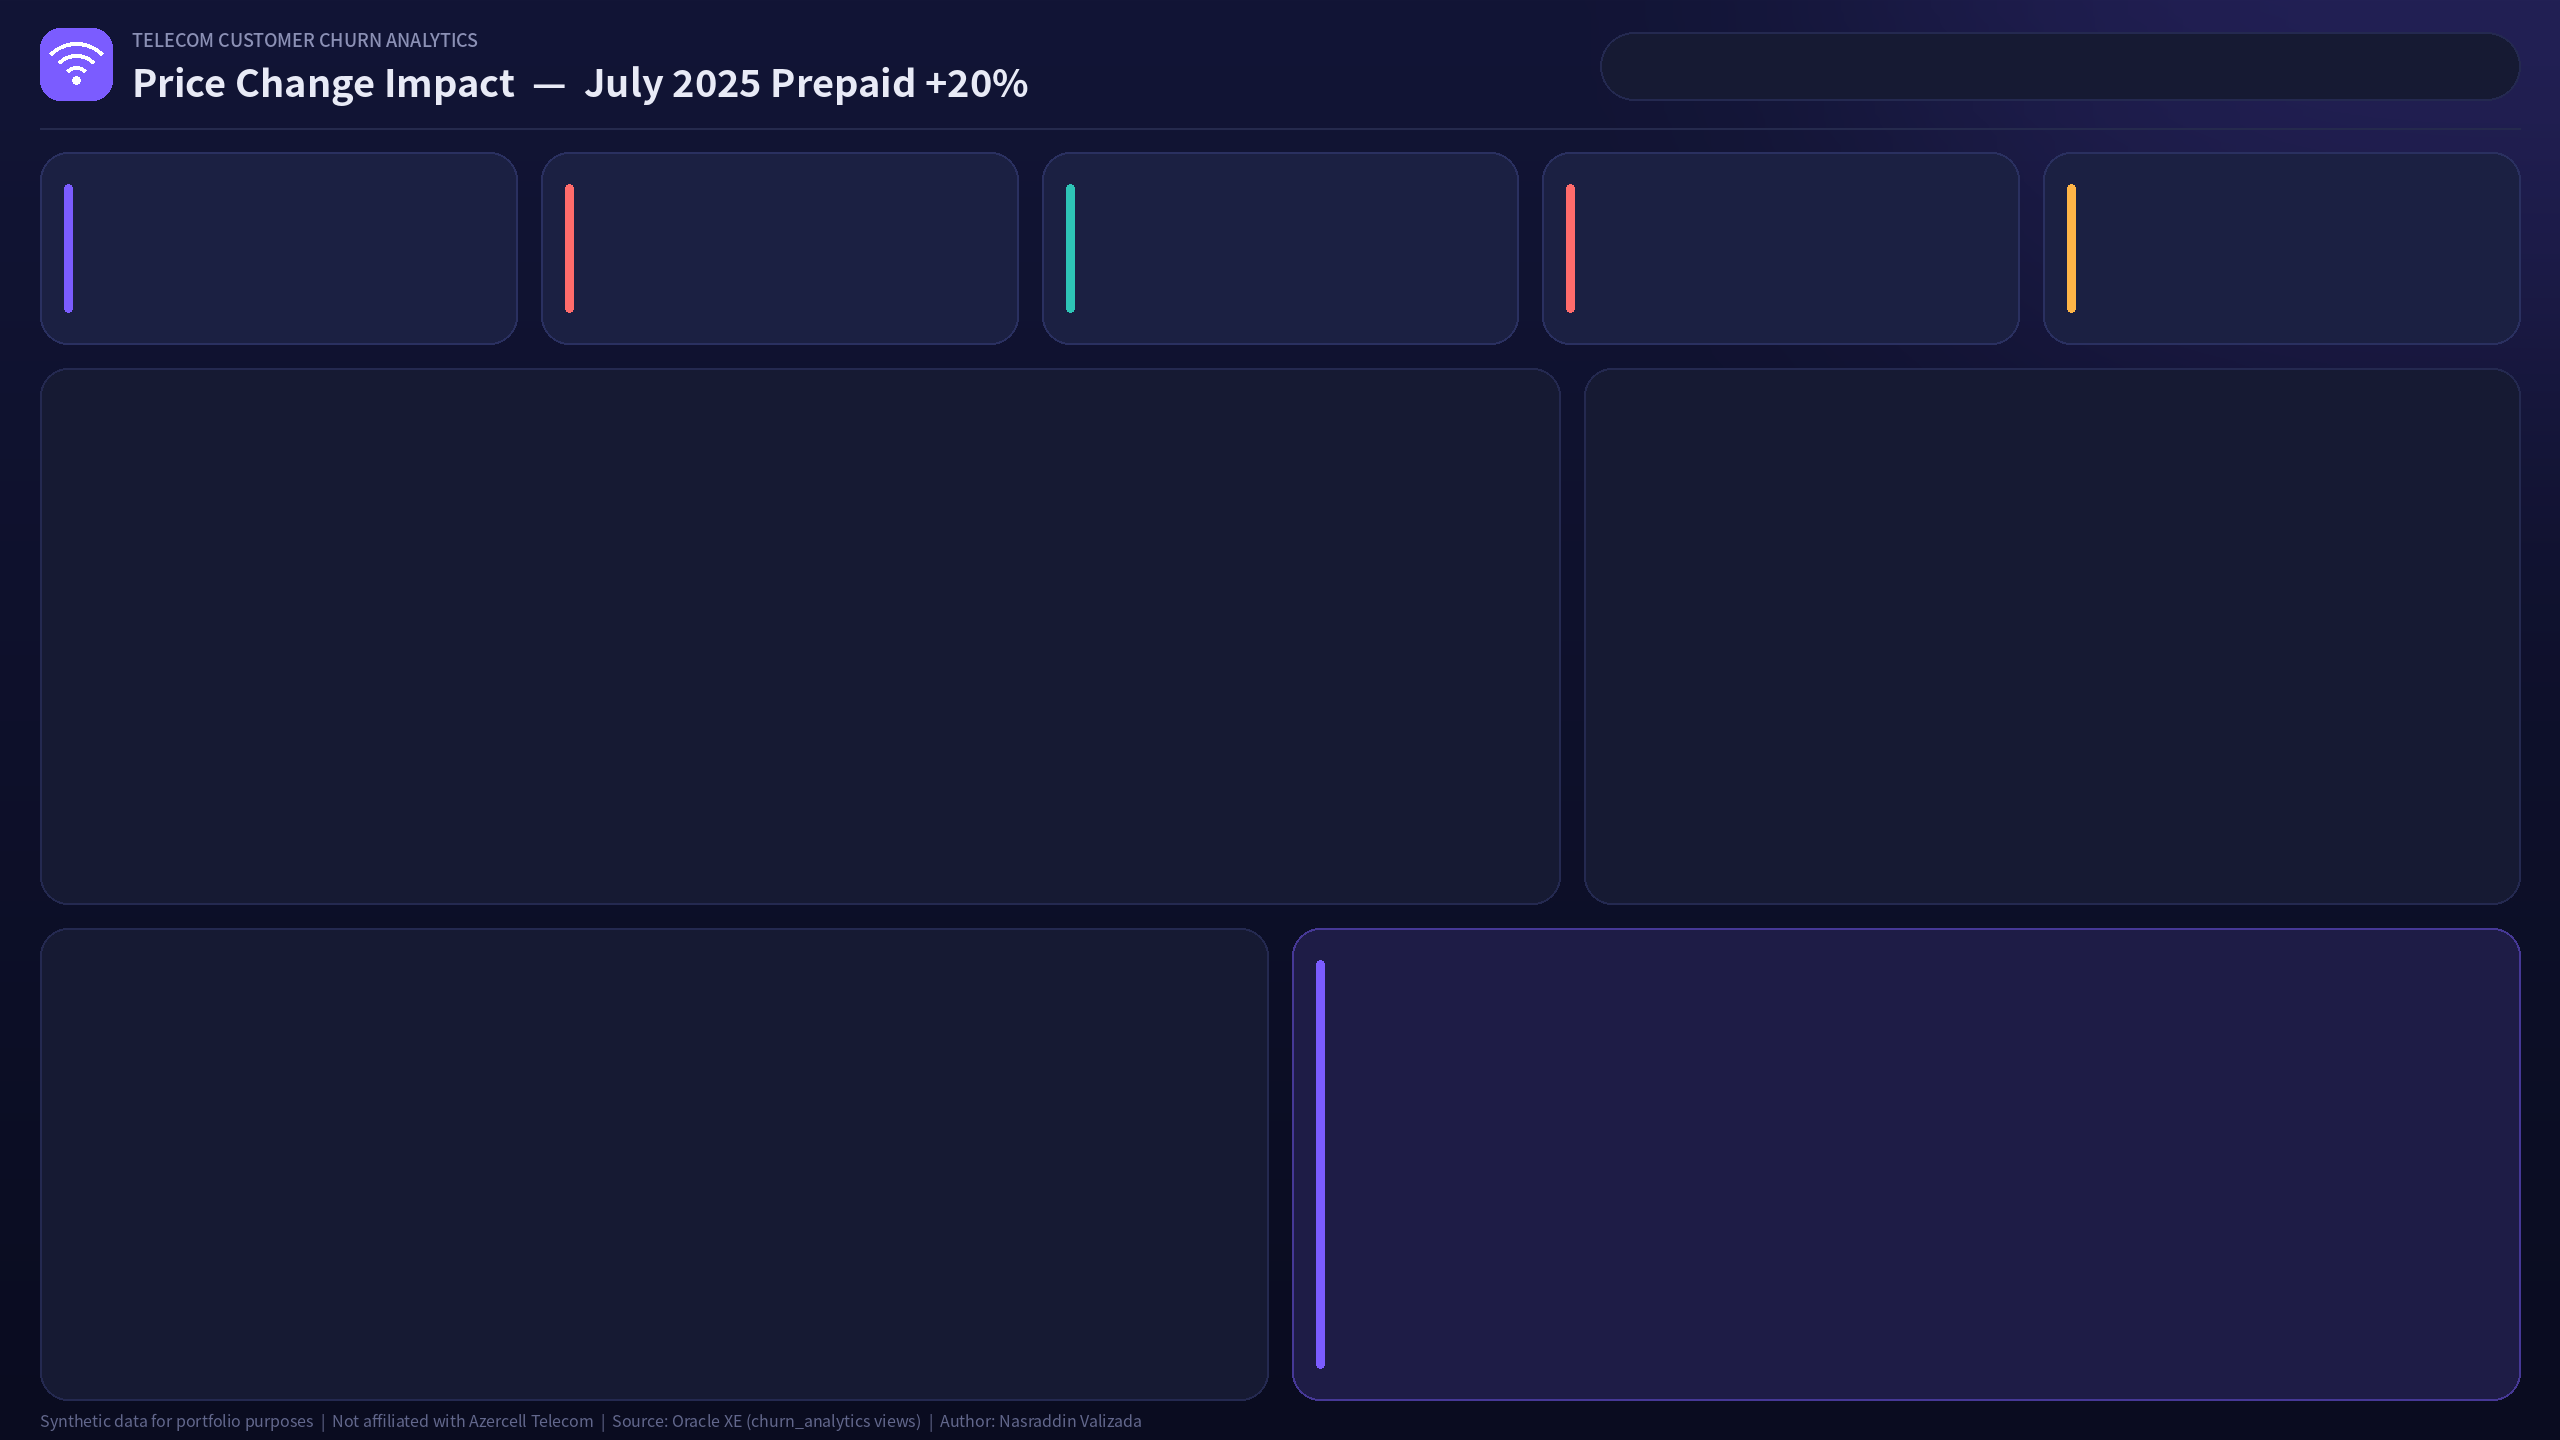

This screenshot's page, from the dashboard's own definition file:
{"tool":"powerbi","page":{"name":"Price Change Impact","canvas":[1280,720],"ordinal":1},"visuals":[{"type":"pageNavigator","box":[805.5,17.8,448.7,32.9],"z":0},{"type":"advanceCardE03760C5AB684758B56AA29F9E6C257B","fields":{"mainMeasure":["_Measures.ARPU Shift"]},"box":[28.5,77,242.3,92.7],"z":1000},{"type":"advanceCardE03760C5AB684758B56AA29F9E6C257B","fields":{"mainMeasure":["_Measures.Excess Churn"]},"box":[287.9,77,200.3,93.3],"z":2000},{"type":"advanceCardE03760C5AB684758B56AA29F9E6C257B","fields":{"mainMeasure":["_Measures.Price Gain"]},"box":[551.6,78.4,200.3,93.3],"z":3000},{"type":"advanceCardE03760C5AB684758B56AA29F9E6C257B","fields":{"mainMeasure":["_Measures.Lost Revenue"]},"box":[792.5,78.4,218.1,92.7],"z":4000},{"type":"advanceCardE03760C5AB684758B56AA29F9E6C257B","fields":{"mainMeasure":["_Measures.Net Impact"]},"box":[1043.4,78.4,200.3,93.3],"z":5000},{"type":"SimpleWaterfall","title":"Extra churn erased most of the price gain; net impact is small but positive","fields":{"category":["Impact Bridge.Step"],"measure":["_Measures.Bridge Value"]},"box":[28,192,744,252],"z":6000},{"type":"clusteredBarChart","title":"Price drove 39% of Q3 2025 prepaid churn","fields":{"Category":["FactCustomer.CHURN_REASON"],"Y":["_Measures.Share of Churners"]},"box":[800,192,452,252],"z":7000},{"type":"clusteredColumnChart","title":"296 actual vs 126 expected: ~170 extra subscribers lost","fields":{"Y":["_Measures.Actual Churn After","_Measures.Expected Churn After"]},"box":[28,472,598,220],"z":8000},{"type":"advanceCardE03760C5AB684758B56AA29F9E6C257B","fields":{"mainMeasure":["_Measures.Gain Lost Text"]},"box":[674.2,471.8,570.2,48.5],"z":9000},{"type":"textbox","box":[674,520,570,172],"z":10000}]}

Visuals, with their boxes in screenshot pixels (x1, y1, x2, y2), scaled from the page's 1280x720 canvas onto the 2560x1440 screenshot:
pageNavigator: x1=1611, y1=36, x2=2508, y2=101
advanceCardE03760C5AB684758B56AA29F9E6C257B - _Measures.ARPU Shift: x1=57, y1=154, x2=542, y2=339
advanceCardE03760C5AB684758B56AA29F9E6C257B - _Measures.Excess Churn: x1=576, y1=154, x2=976, y2=341
advanceCardE03760C5AB684758B56AA29F9E6C257B - _Measures.Price Gain: x1=1103, y1=157, x2=1504, y2=343
advanceCardE03760C5AB684758B56AA29F9E6C257B - _Measures.Lost Revenue: x1=1585, y1=157, x2=2021, y2=342
advanceCardE03760C5AB684758B56AA29F9E6C257B - _Measures.Net Impact: x1=2087, y1=157, x2=2487, y2=343
"Extra churn erased most of the price gain; net impact is small but positive" SimpleWaterfall: x1=56, y1=384, x2=1544, y2=888
"Price drove 39% of Q3 2025 prepaid churn" clusteredBarChart: x1=1600, y1=384, x2=2504, y2=888
"296 actual vs 126 expected: ~170 extra subscribers lost" clusteredColumnChart: x1=56, y1=944, x2=1252, y2=1384
advanceCardE03760C5AB684758B56AA29F9E6C257B - _Measures.Gain Lost Text: x1=1348, y1=944, x2=2489, y2=1041
textbox: x1=1348, y1=1040, x2=2488, y2=1384
